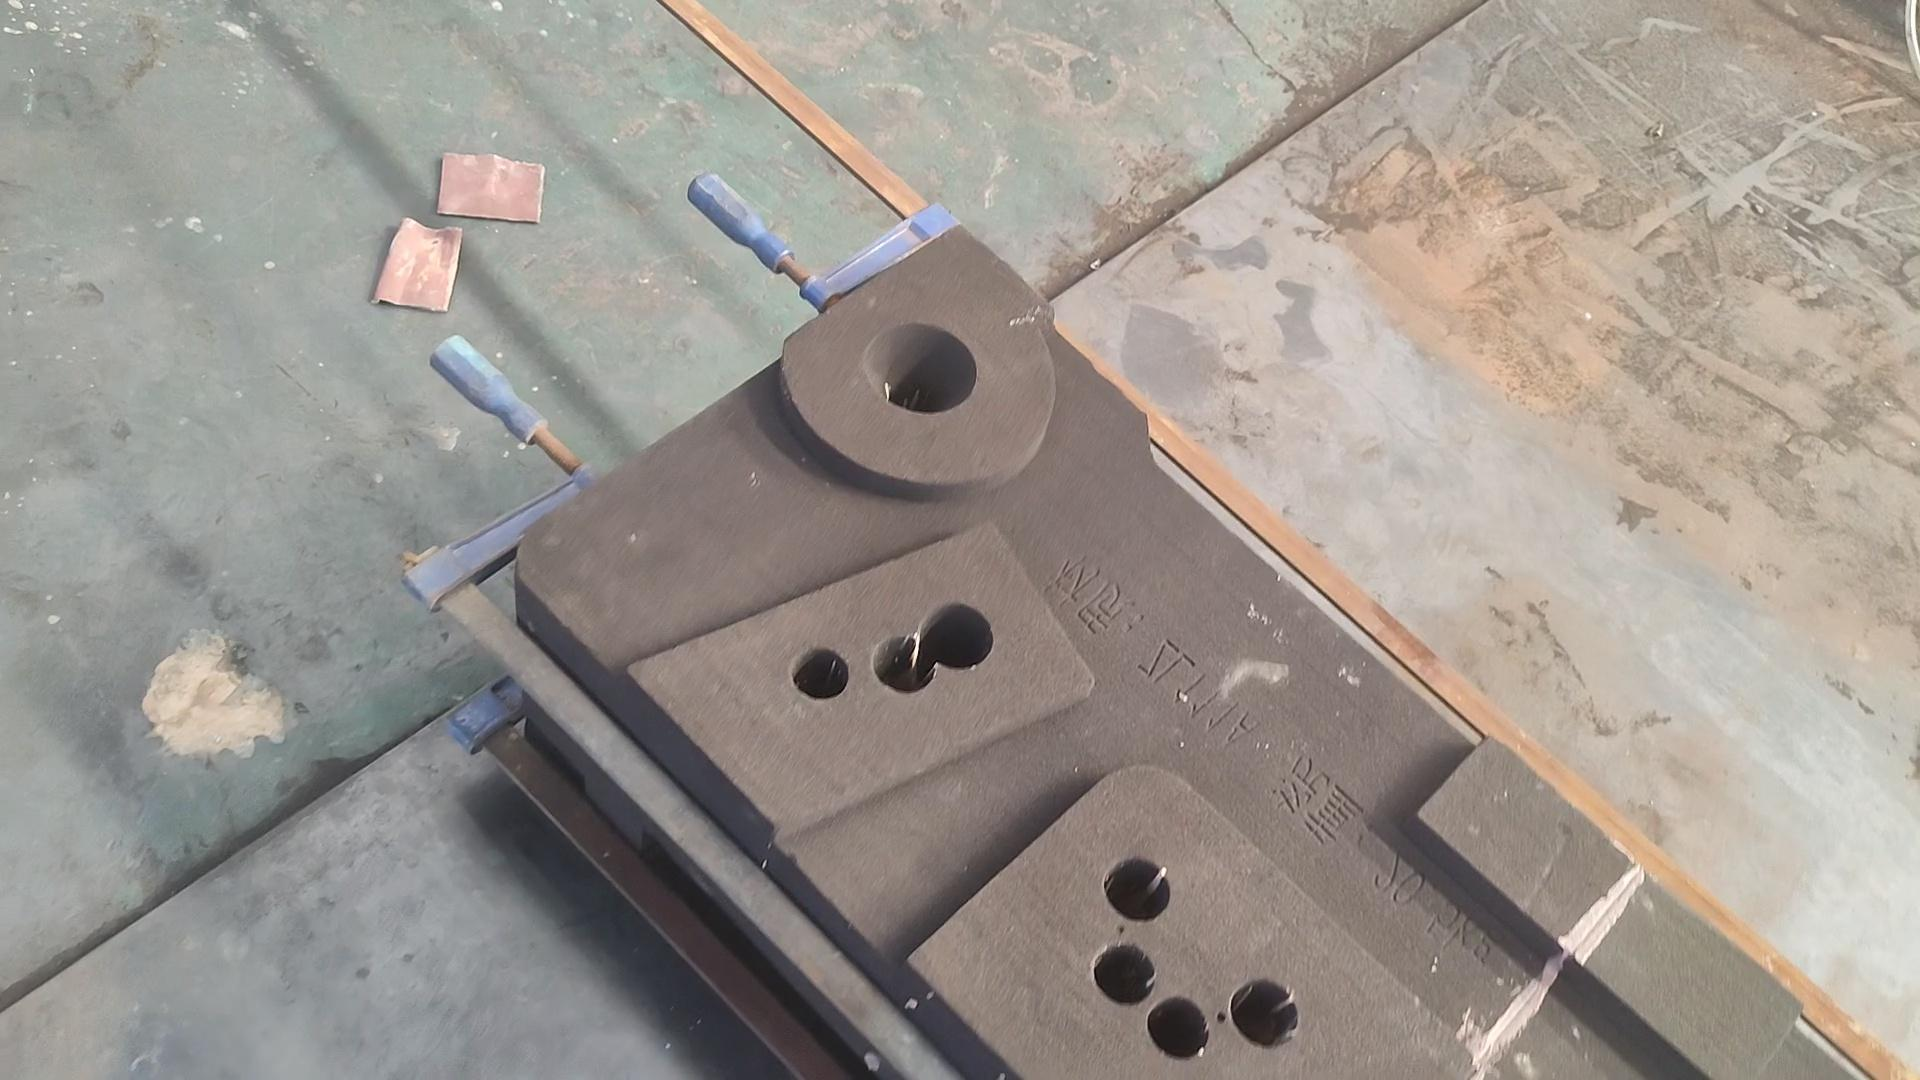pouring hole: (862, 322, 978, 414)
